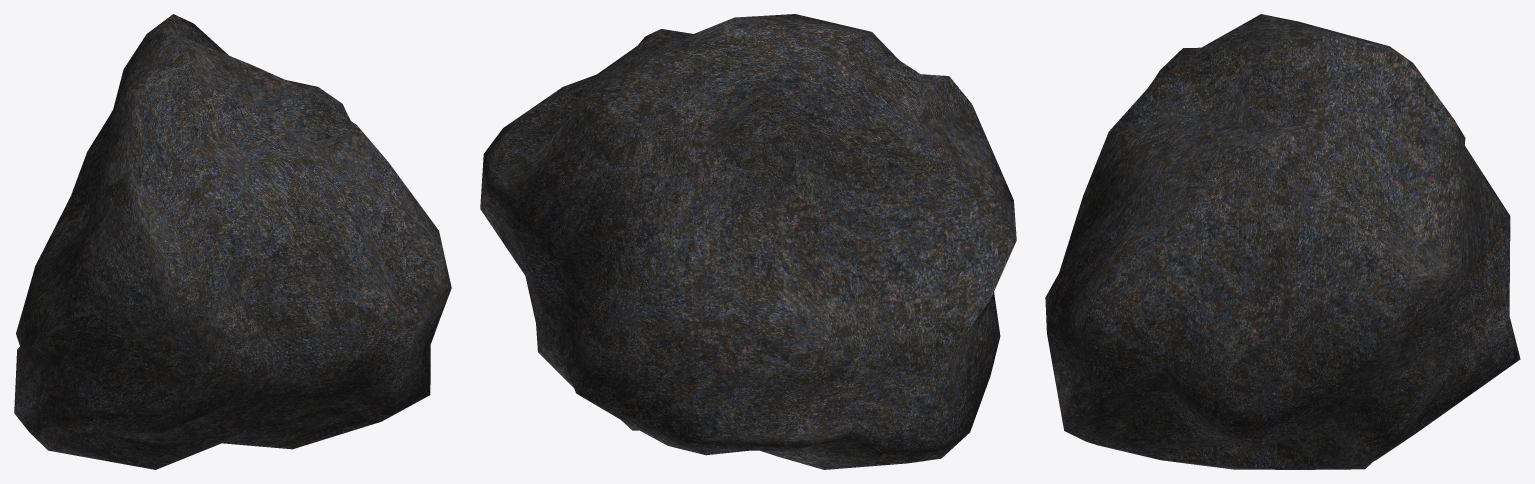
The model's file is asteroid_metal_large_s01_l1.fbx.
3 renders of one model, left to right at view 1: azimuth 30°, elevation 25°; view 2: azimuth 150°, elevation 25°; view 3: azimuth 270°, elevation 25°, orthographic. The views are drawn at different scales.
Parts seen in each view (by area): view 1: mesh_node; view 2: mesh_node; view 3: mesh_node.
Part boxes in pixels (x1,y1,x2,y2): mesh_node: (14,14,451,469); mesh_node: (480,14,1016,469); mesh_node: (1045,14,1520,469).
Size of the model in its own units: 114 by 111 by 114.
